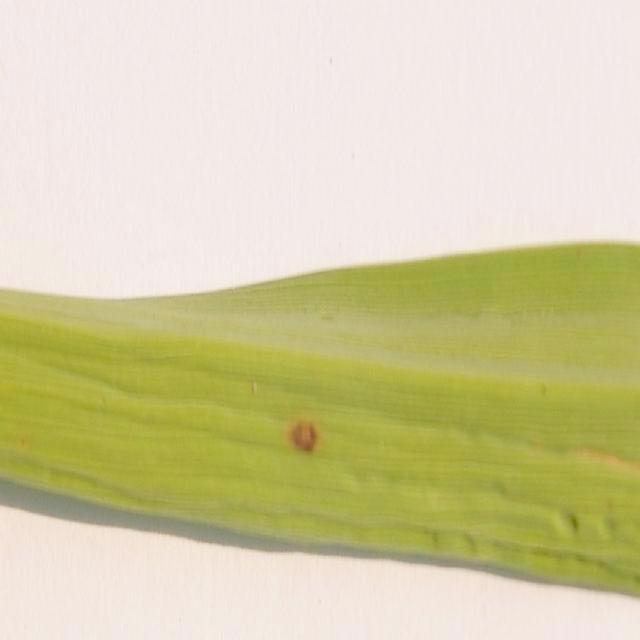Brownspot: (573, 448, 639, 473), (289, 421, 316, 451)
